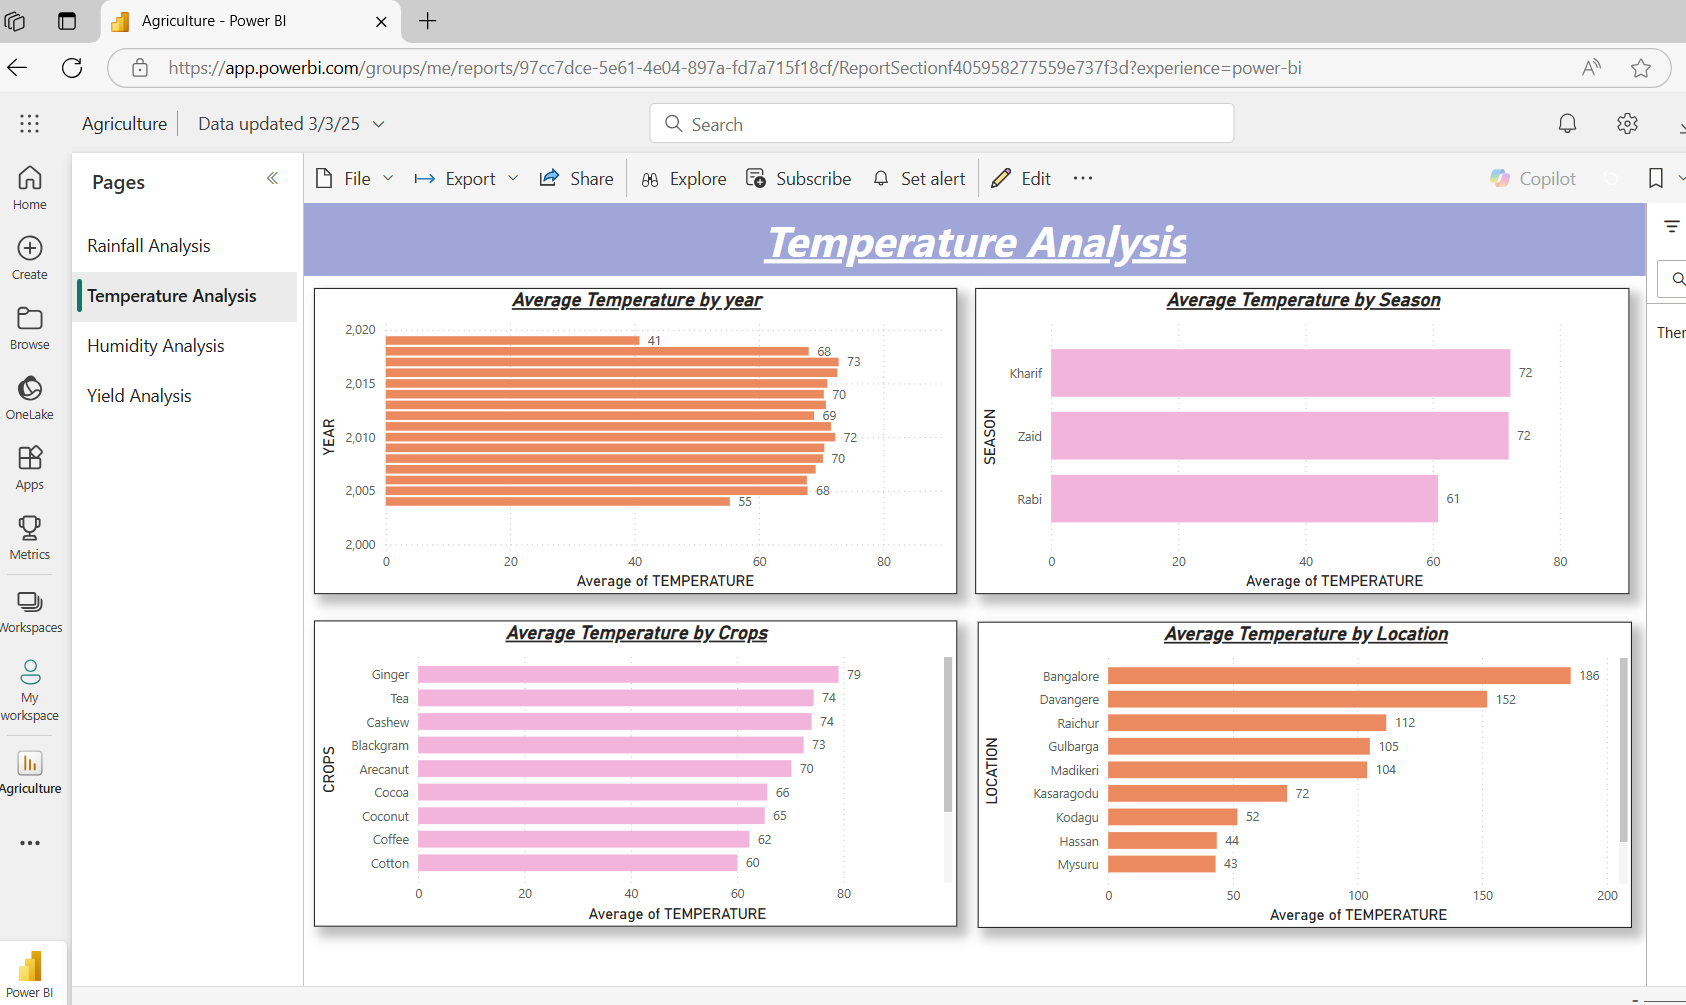

Layout of this report page (visuals, bound fields, positions):
{"tool":"powerbi","page":{"name":"Temperature Analysis ","canvas":[1280,720],"ordinal":1},"visuals":[{"type":"shape","box":[0,0,1280.3,70],"z":0},{"type":"barChart","title":"Average Temperature by year","fields":{"Category":["AGRICULTURE.YEAR"],"Y":["Avg(AGRICULTURE.TEMPERATURE)"]},"box":[9.6,81,613.4,292.3],"z":1000},{"type":"barChart","title":"Average Temperature by Season","fields":{"Category":["AGRICULTURE.SEASON"],"Y":["Avg(AGRICULTURE.TEMPERATURE)"]},"box":[640.8,81,624.4,292.3],"z":2000},{"type":"barChart","title":"Average Temperature by Crops","fields":{"Category":["AGRICULTURE.CROPS"],"Y":["Avg(AGRICULTURE.TEMPERATURE)"]},"box":[9.6,397.9,613.4,292.3],"z":3000},{"type":"barChart","title":"Average Temperature by Location","fields":{"Category":["AGRICULTURE.LOCATION"],"Y":["Avg(AGRICULTURE.TEMPERATURE)"]},"box":[642.2,399.3,624.4,292.3],"z":4000}]}

Visuals, with their boxes on the page's 1280x720 design canvas (x1, y1, x2, y2). These are canvas units, not pixel positions in the 1686x1005 screenshot, which may show the page scaled, cropped or inside an application window:
shape: 0 0 1280 70
"Average Temperature by year" barChart: 10 81 623 373
"Average Temperature by Season" barChart: 641 81 1265 373
"Average Temperature by Crops" barChart: 10 398 623 690
"Average Temperature by Location" barChart: 642 399 1267 692
